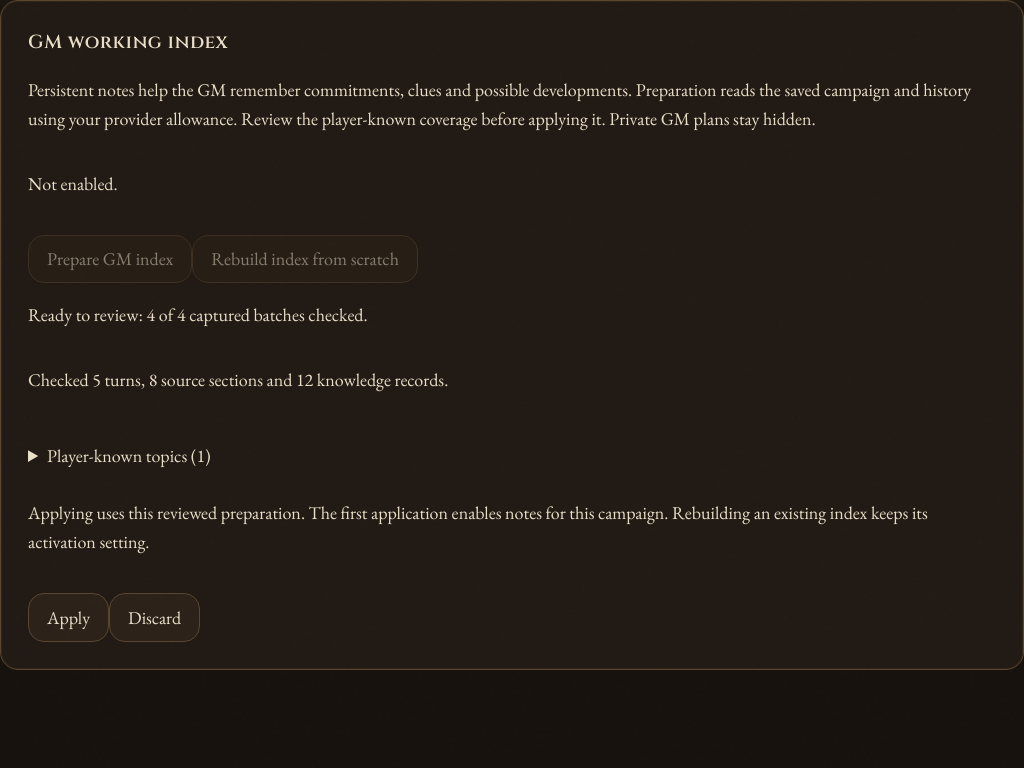
it: reviews only safe coverage and topics, then applies the reviewed digest
Expected: the text "Checked 5 turns, 8 source sections and 12 knowledge records." is shown, [28,368,448,391]
Expected: the button "Rebuild index from scratch" is disabled, [192,235,418,283]
Step 1. Click the button "Apply" → (69, 617), box [28,593,109,642]
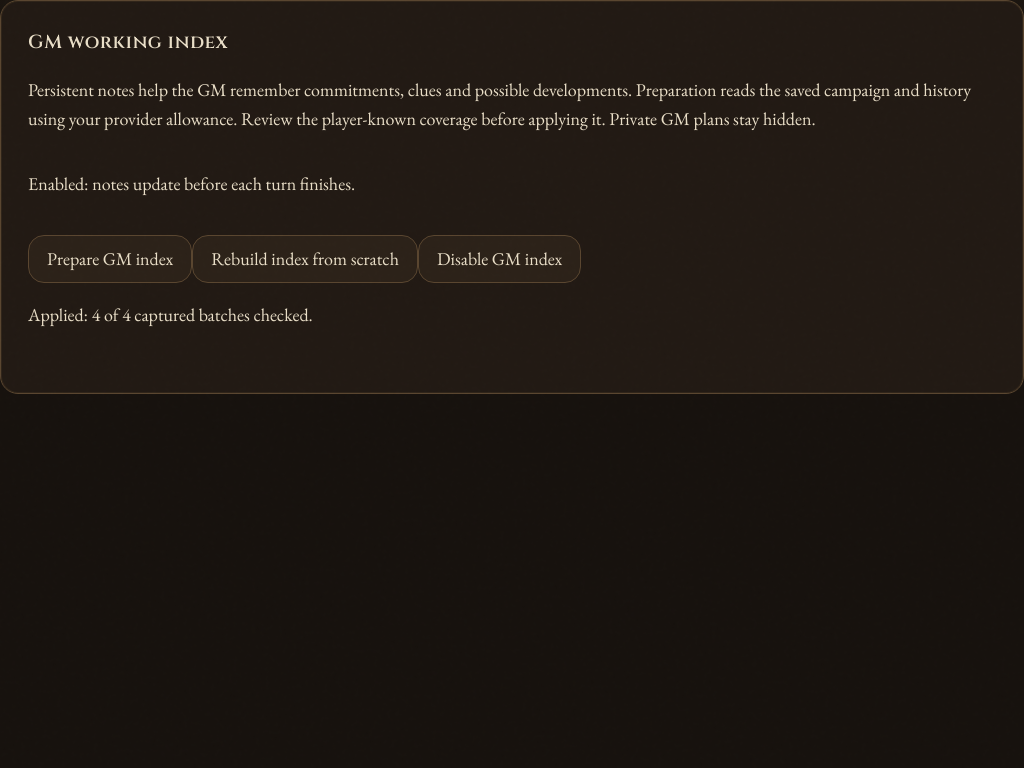
Expected: the text "Enabled: notes update before each turn finishes." is shown, [28,172,355,195]
